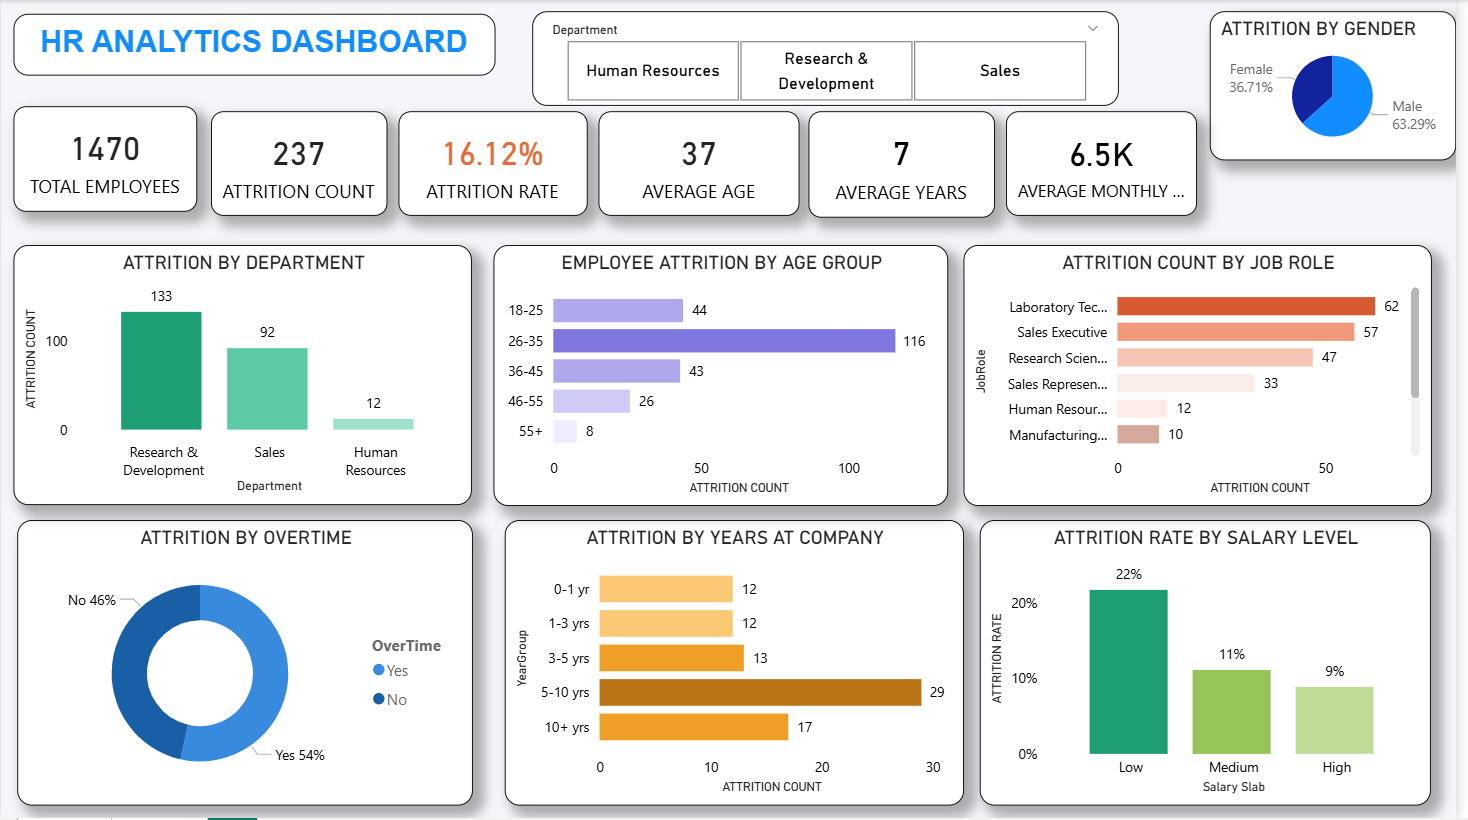

What the dashboard file says about the page in this screenshot:
{"tool":"powerbi","page":{"name":"Page 1","canvas":[1280,720],"ordinal":0},"visuals":[{"type":"card","fields":{"Values":["Measure.TOTAL EMPLOYEES"]},"box":[11.1,93.8,161.7,92.6],"z":0},{"type":"card","fields":{"Values":["Measure.ATTRITION COUNT"]},"box":[184.7,97.9,155,92.4],"z":1000},{"type":"card","fields":{"Values":["Measure.ATTRITION RATE"]},"box":[349.7,97.9,166,92.4],"z":2000},{"type":"textbox","box":[10.7,11.9,423.8,54.8],"z":3000},{"type":"donutChart","title":"ATTRITION BY OVERTIME","fields":{"Category":["HR.OverTime"],"Y":["Measure.ATTRITION COUNT"]},"box":[14.3,457.1,401.2,251.2],"z":4000},{"type":"slicer","fields":{"Values":["HR.Department"]},"box":[467.3,9.9,515.7,83.6],"z":5000},{"type":"pieChart","title":"ATTRITION BY GENDER","fields":{"Category":["HR.Gender"],"Y":["Measure.ATTRITION COUNT"]},"box":[1063.1,9.5,216.7,131],"z":6000},{"type":"clusteredBarChart","title":"ATTRITION BY YEARS AT COMPANY ","fields":{"Y":["Measure.ATTRITION COUNT"],"Category":["HR.YearGroup"]},"box":[442.8,457.2,404.2,250.9],"z":8000},{"type":"clusteredBarChart","title":"EMPLOYEE ATTRITION BY AGE GROUP","fields":{"Category":["HR.AGE GROUP"],"Y":["Measure.ATTRITION COUNT"]},"box":[433.3,215.5,400,229.8],"z":9000},{"type":"card","fields":{"Values":["Measure.AVERAGE AGE"]},"box":[525.6,97.9,177,92.4],"z":10000},{"type":"card","fields":{"Values":["Measure.AVERAGE YEAR ATT COMPANY"]},"box":[710.3,97.9,163.8,93.5],"z":11000},{"type":"clusteredColumnChart","title":"ATTRITION RATE BY SALARY LEVEL","fields":{"Category":["HR.Salary Slab"],"Y":["Measure.ATTRITION RATE"]},"box":[861.4,457.2,396.9,250.9],"z":12000},{"type":"clusteredColumnChart","title":"ATTRITION BY DEPARTMENT","fields":{"Category":["HR.Department"],"Y":["Measure.ATTRITION COUNT"]},"box":[10.7,215.5,403.6,228.6],"z":13000},{"type":"card","fields":{"Values":["Measure.AVERAGE SALARY"]},"box":[884.1,97.9,168.2,92.4],"z":14000},{"type":"clusteredBarChart","title":"ATTRITION COUNT BY JOB ROLE","fields":{"Category":["HR.JobRole"],"Y":["Measure.ATTRITION COUNT"]},"box":[846.4,215.5,411.9,229.8],"z":14001}]}

Visuals, with their boxes in screenshot pixels (x1, y1, x2, y2), scaled from the page's 1280x720 canvas onto the 1468x820 screenshot:
card - Measure.TOTAL EMPLOYEES: crop(13, 107, 198, 212)
card - Measure.ATTRITION COUNT: crop(212, 111, 390, 217)
card - Measure.ATTRITION RATE: crop(401, 111, 591, 217)
textbox: crop(12, 14, 498, 76)
"ATTRITION BY OVERTIME" donutChart: crop(16, 521, 477, 807)
slicer - HR.Department: crop(536, 11, 1127, 106)
"ATTRITION BY GENDER" pieChart: crop(1219, 11, 1467, 160)
"ATTRITION BY YEARS AT COMPANY " clusteredBarChart: crop(508, 521, 971, 806)
"EMPLOYEE ATTRITION BY AGE GROUP" clusteredBarChart: crop(497, 245, 956, 507)
card - Measure.AVERAGE AGE: crop(603, 111, 806, 217)
card - Measure.AVERAGE YEAR ATT COMPANY: crop(815, 111, 1002, 218)
"ATTRITION RATE BY SALARY LEVEL" clusteredColumnChart: crop(988, 521, 1443, 806)
"ATTRITION BY DEPARTMENT" clusteredColumnChart: crop(12, 245, 475, 506)
card - Measure.AVERAGE SALARY: crop(1014, 111, 1207, 217)
"ATTRITION COUNT BY JOB ROLE" clusteredBarChart: crop(971, 245, 1443, 507)
